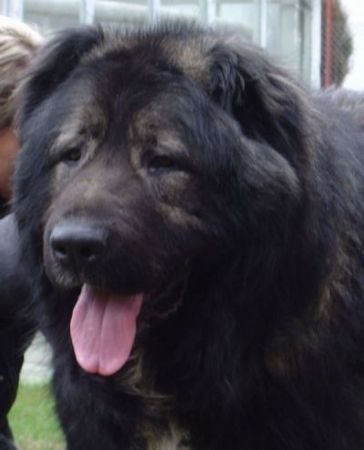cau_ovcharka: (11, 15, 363, 449)
